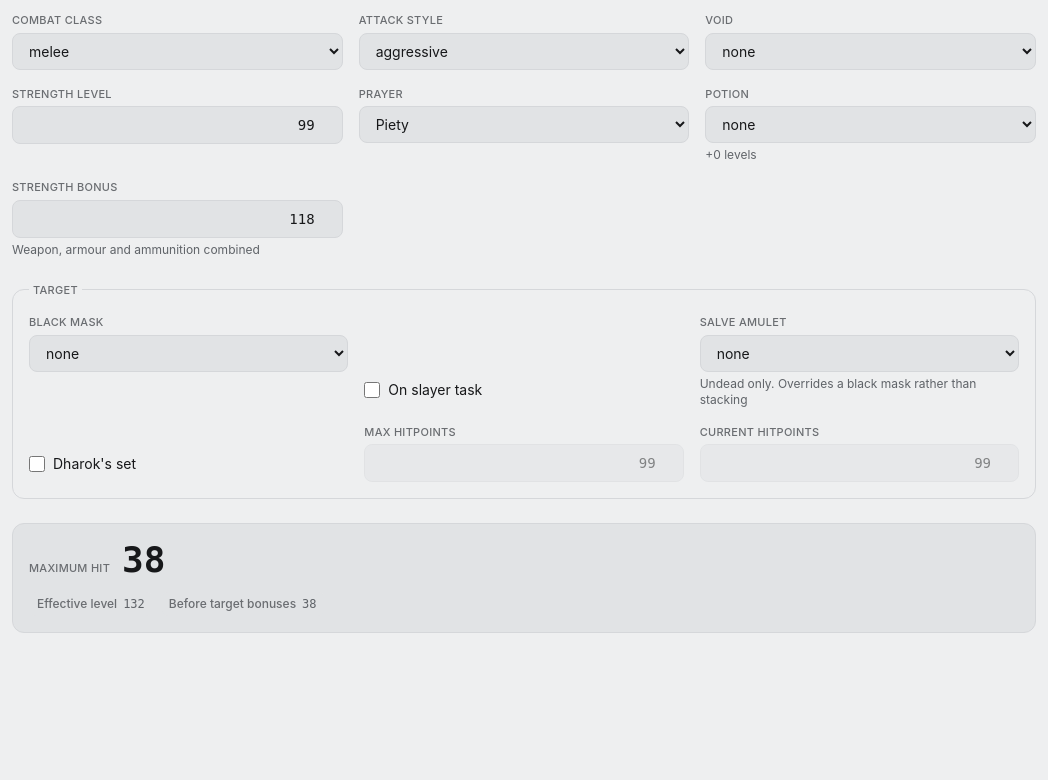
MaxHitCalculator › disables the Dharok hitpoint fields until the set is selected
The width and height of the screenshot is (1048, 780).
Check: the number field labelled "Current hitpoints" is disabled, box [700,444,1019,482]
Step 1. Click the checkbox labelled "Dharok's set" → (37, 464), box [29,456,45,472]
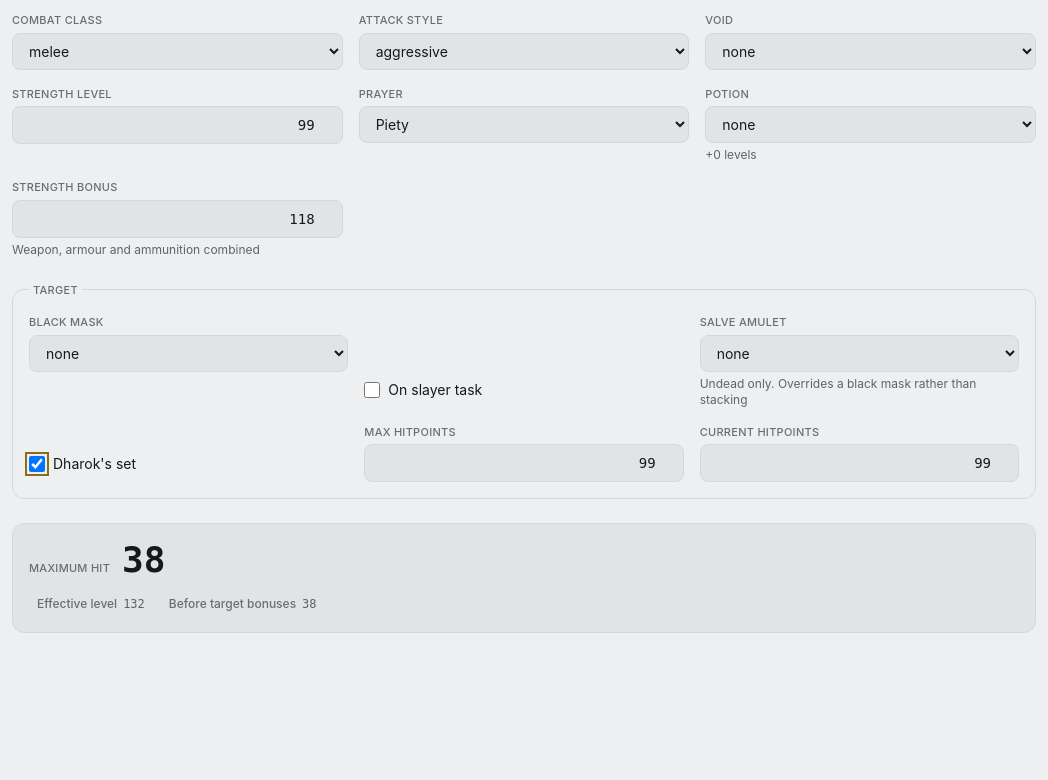
Check: the number field labelled "Current hitpoints" is enabled, box [700,444,1019,482]
